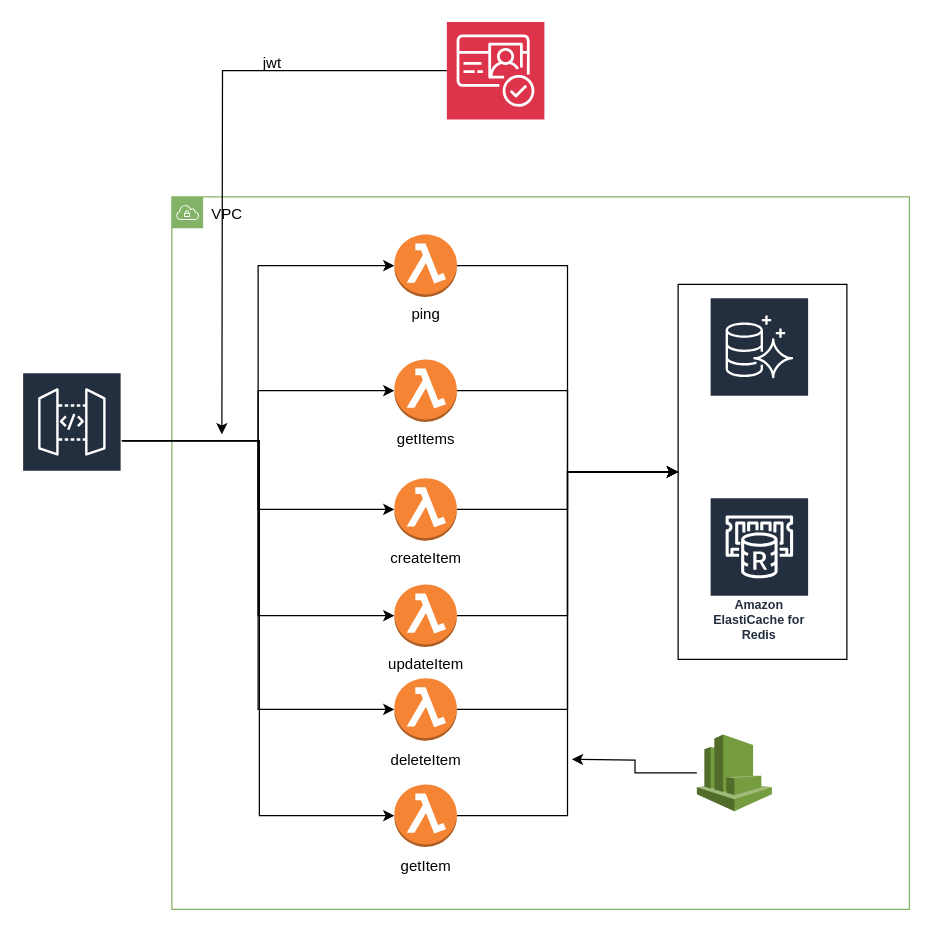
This 931x931 diagram has some shape labels left out. The shapes that lost their labels are listed below. From the top down, each one's centre as x and y in pixels, then its label:
At [495,70]: "Cognito".
At [758,365]: "Amazon Aurora".
At [71,440]: "Amazon API Gateway".
At [734,772]: "CloudWatch".
